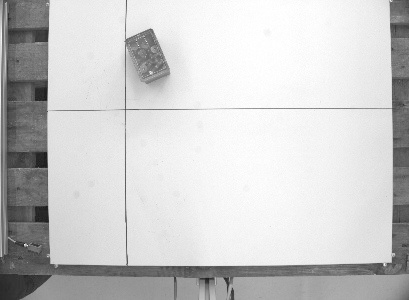kltxs: (122, 26, 173, 85)
